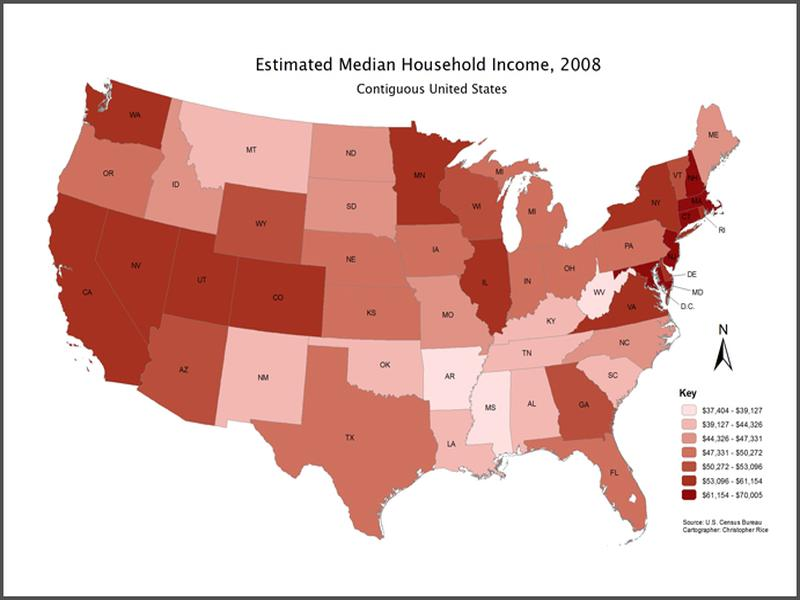legend: (678, 388, 765, 504)
